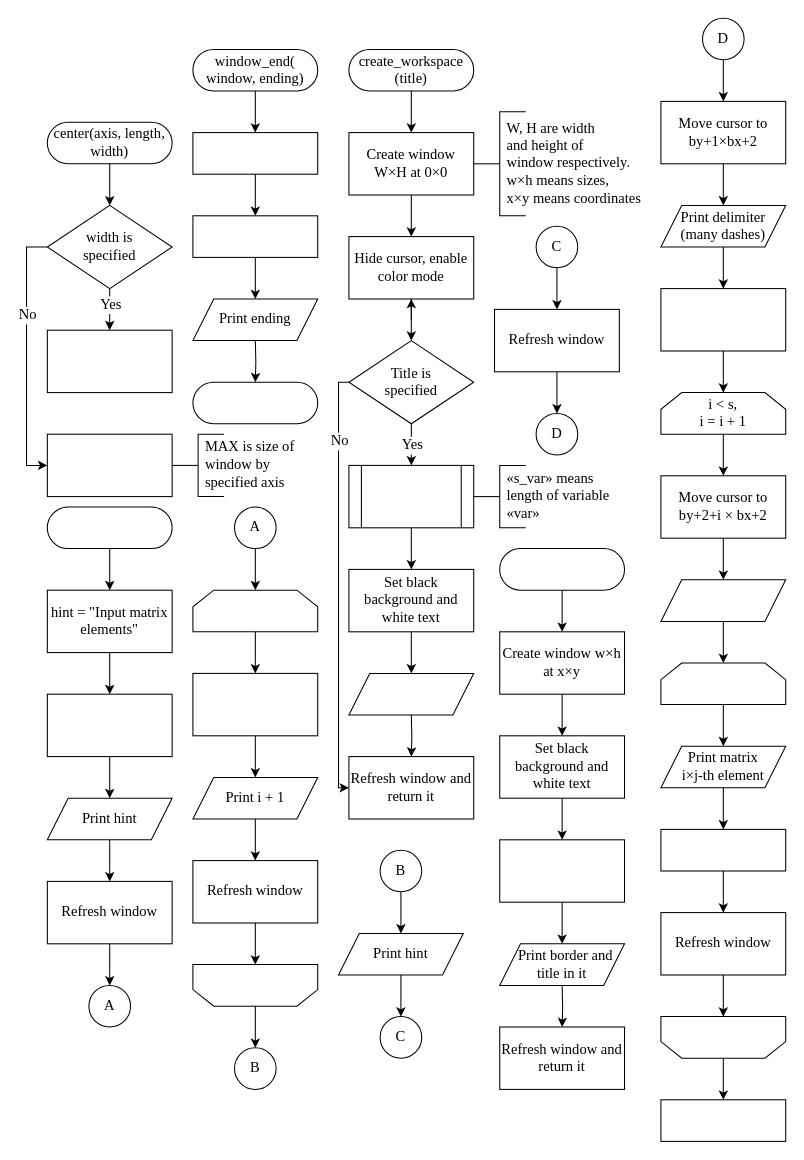
The diagram is 804 pixels wide and 1160 high, and some of its shapes have lost their labels. Each missing label, with the centre of its shape:
"Create text box in created window" goes at pixel 562 870.
"create_window (w, h, x, y, title)" goes at pixel 562 569.
"Delete window" goes at pixel 255 153.
"End all window activity" goes at pixel 255 236.
"Exit" goes at pixel 255 402.
"i = 0, i < s, i = i + 1" goes at pixel 255 610.
"j = 0, j < s, j = j + 1" goes at pixel 723 683.
"Move cursor to by ×center(1,w)+2*i-1" goes at pixel 255 704.
"Move cursor to by+2+i×bx+2*j+8" goes at pixel 723 849.
"Move cursor to by-1×center( s_hint, w)" goes at pixel 109 725.
"Move cursor to center(x, s_title)×1" goes at pixel 411 496.
"Print i + 1 and « | »" goes at pixel 723 600.
"Print title" goes at pixel 411 693.
"print_m(window, w, h, s, matrix, bx, by)" goes at pixel 109 527.
"Refresh window. i = -1" goes at pixel 723 319.
"Return i" goes at pixel 723 1120.
"return MAX / / 2 - length / 2" goes at pixel 109 465.
"return width / / 2 - length / 2" goes at pixel 109 361.
